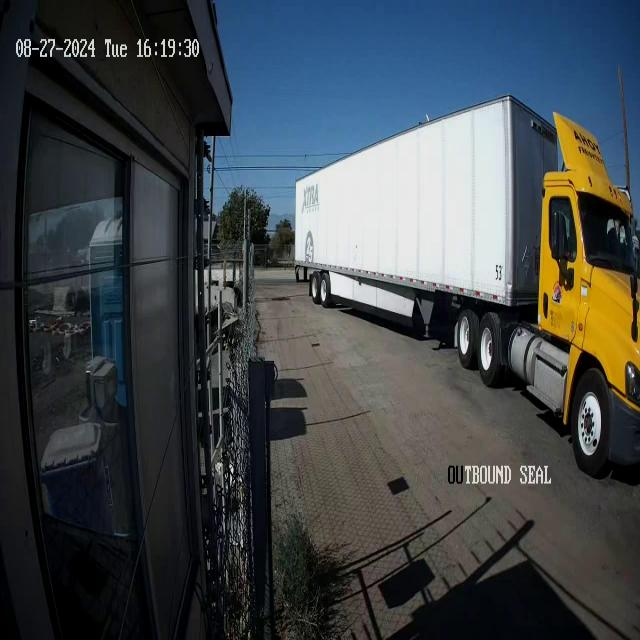CONTAINER: (290, 91, 560, 308)
